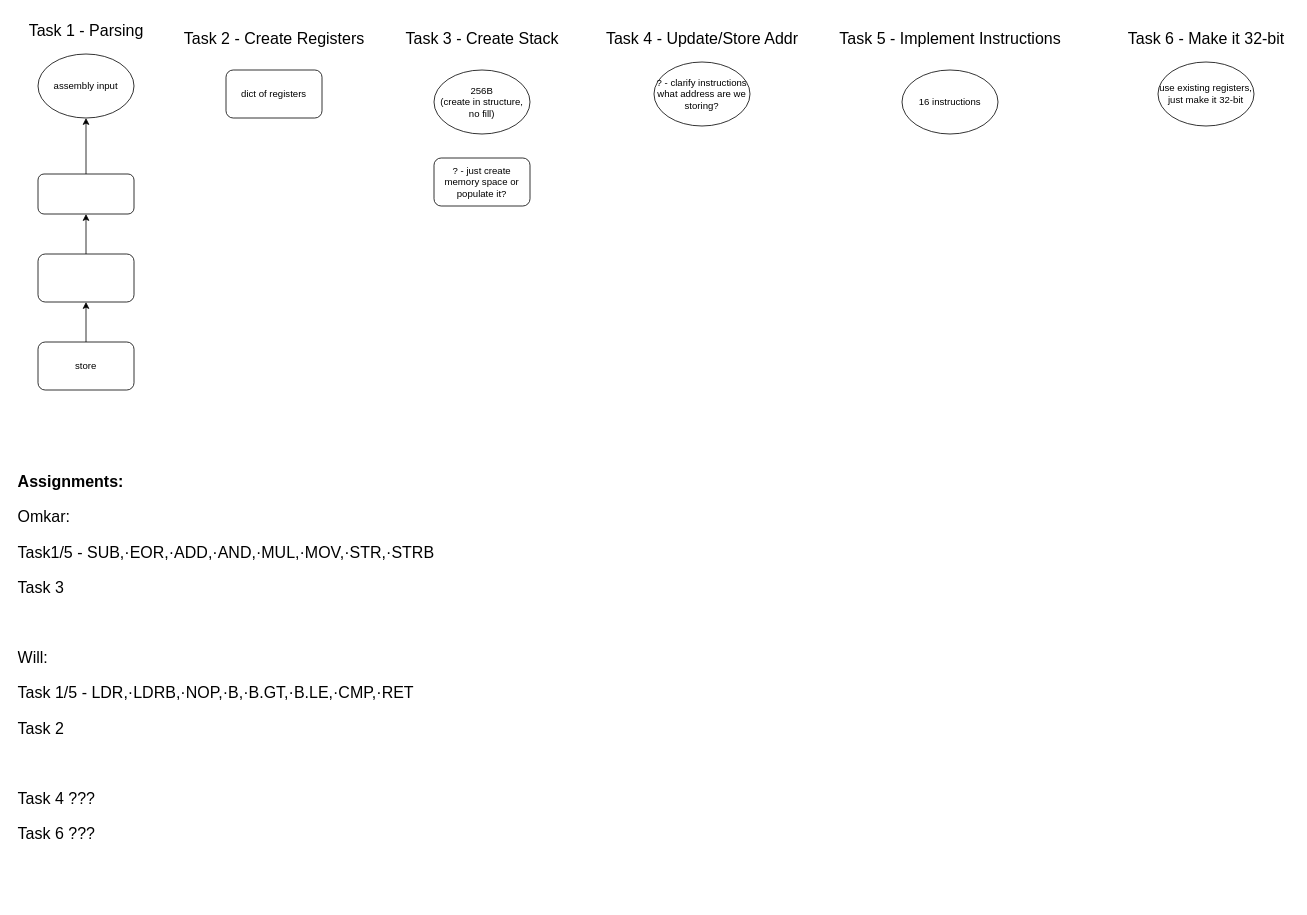
Image size: 1307x915. Some labels were removed from this diagram. The shapes that lost their labels are listed below. From the top down, each one's centre as x and y in pixels, then its label:
[85,193]: read line
[85,277]: instruction parsing (different for each instruction)
